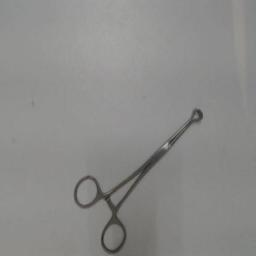Babcock Tissue Forceps: (71, 104, 205, 256)
